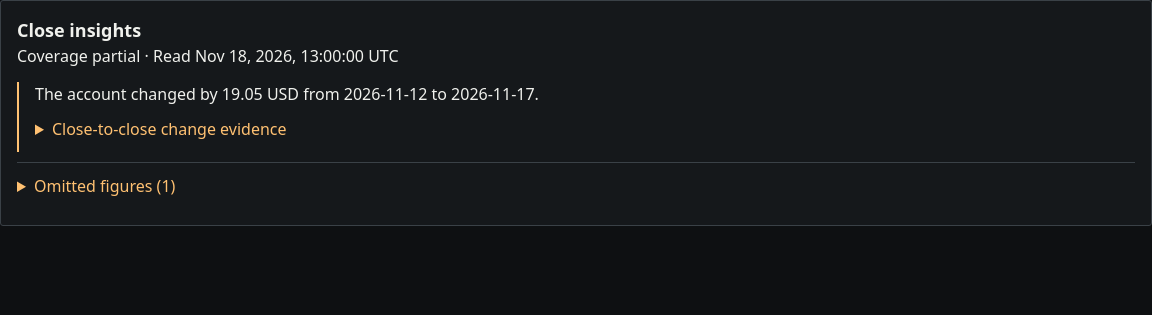
Test: uses the dated server sentence and requests Today without a window
Expected: the text "The account changed by 19.05 USD from 2026-11-12 to 2026-11-17." is shown, left=35, top=83, right=539, bottom=105
Click the heading "Close-to-close change evidence". click: (169, 129)
box: left=52, top=118, right=286, bottom=140
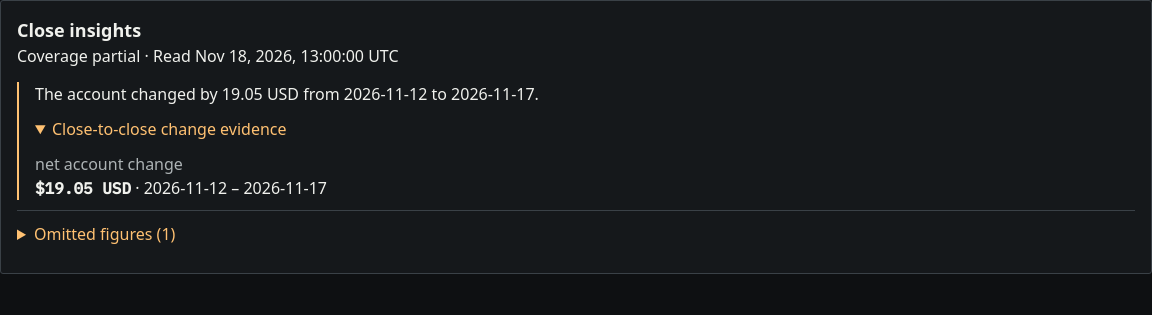
Now the text "$19.05 USD" is shown, box left=35, top=178, right=131, bottom=198
Click the heading "Omitted figures (1)". click: (105, 234)
box: left=34, top=223, right=175, bottom=245
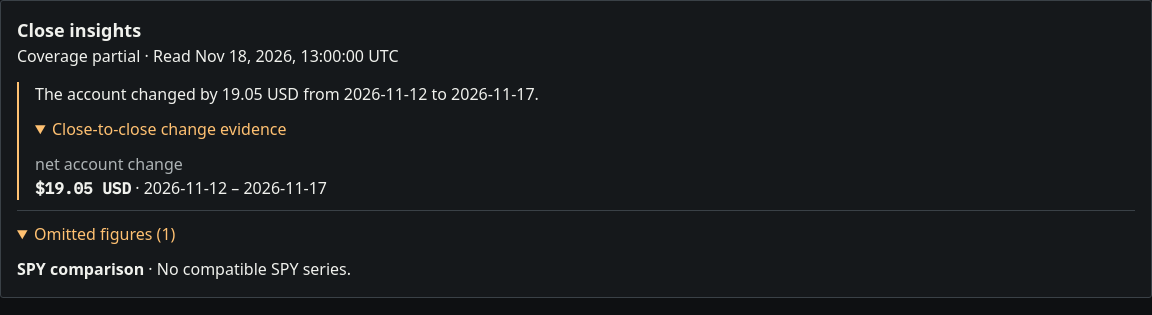
Now the list item "SPY comparison · No compatible SPY series." is shown, box left=17, top=258, right=351, bottom=280
